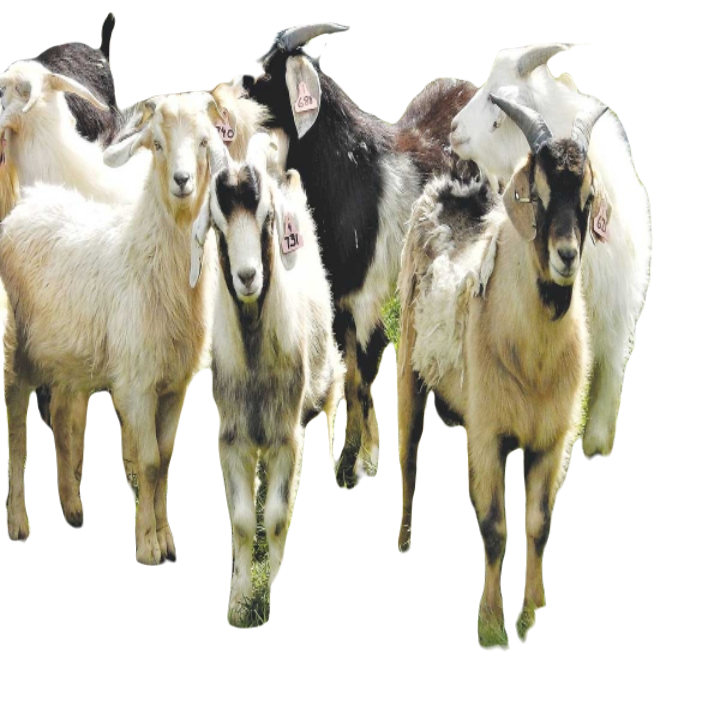Goat: (393, 93, 618, 655)
